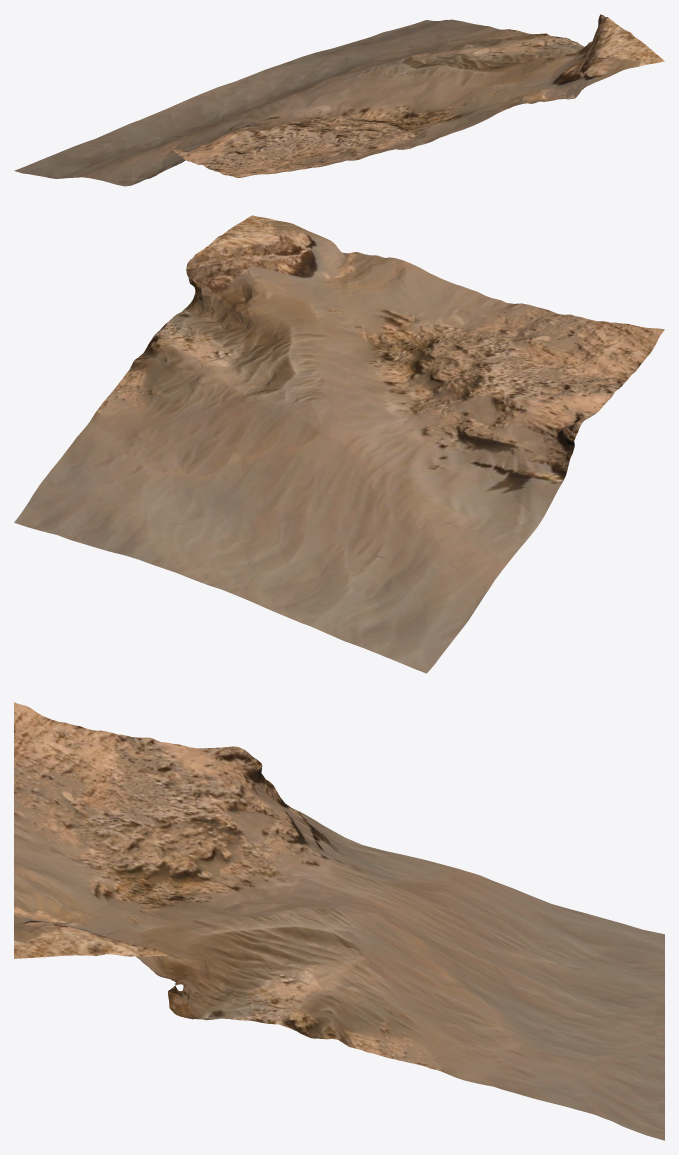
3 views of the same model, one above another, from view 1: azimuth 30°, elevation 25°; view 2: azimuth 150°, elevation 25°; view 3: azimuth 270°, elevation 25° (orthographic). The views are drawn at different scales.
Size of the model in its own units: 2.09 by 0.912 by 2.09.
Materials: 2 (2 with a texture image).
